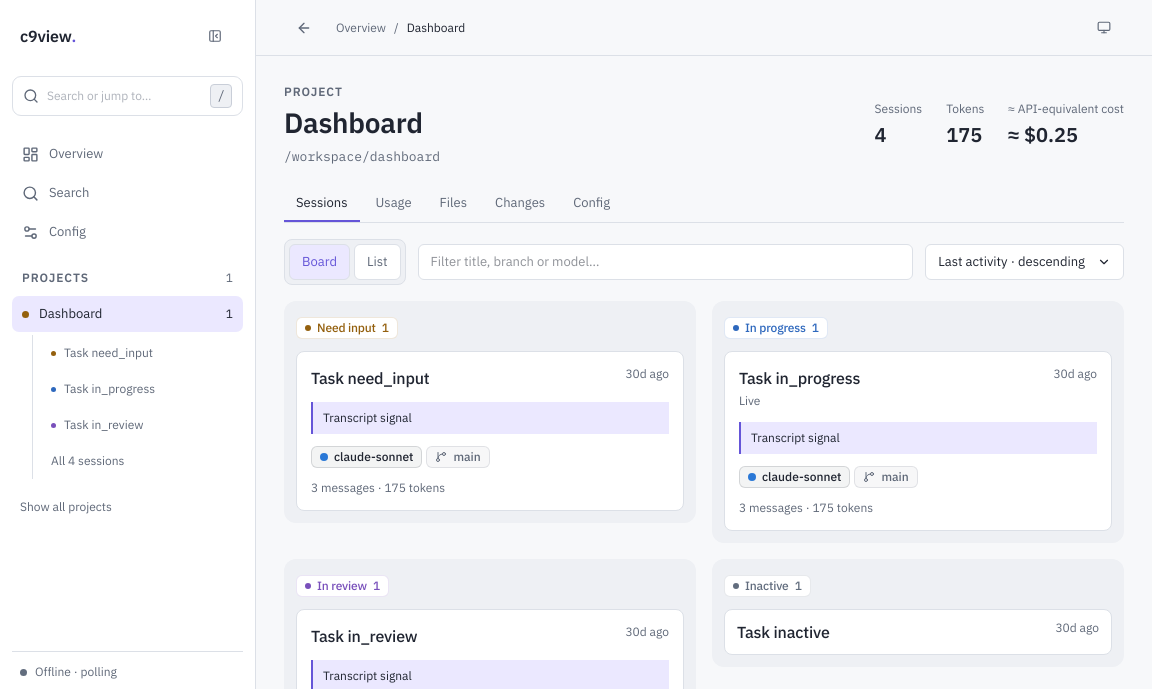
Scenario: dashboard › puts sessions into their contract columns
Expected: the heading "Dashboard" is shown, [284,106,440,140]
Expected: the heading "Task inactive" is shown, [737,620,830,644]
What coordinates should you click on to do the following:
click the tab "Config"
I would click on:
 (592, 204)
Its box is [561,186,622,222].
(page scrolled)
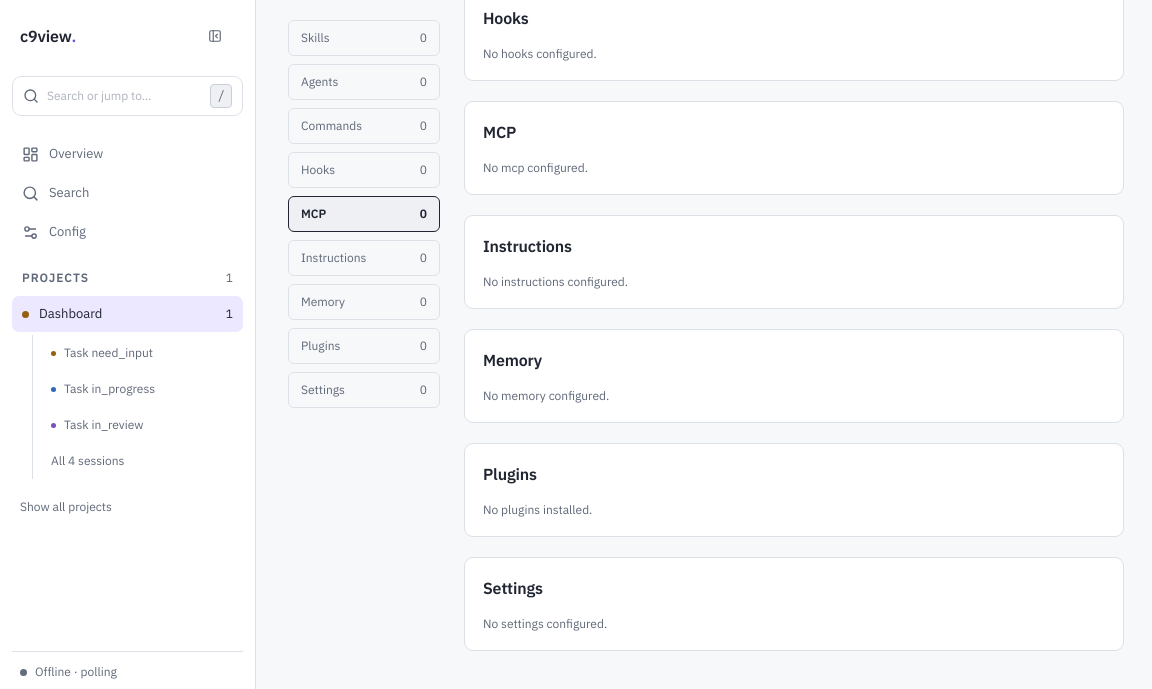
Now the heading "Memory" is shown, box [483,350,542,370]
